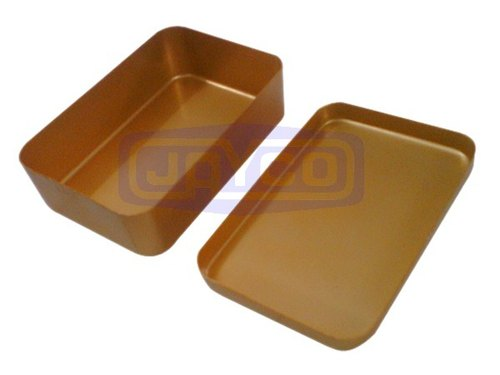metal: (196, 101, 477, 350), (19, 26, 285, 257)
